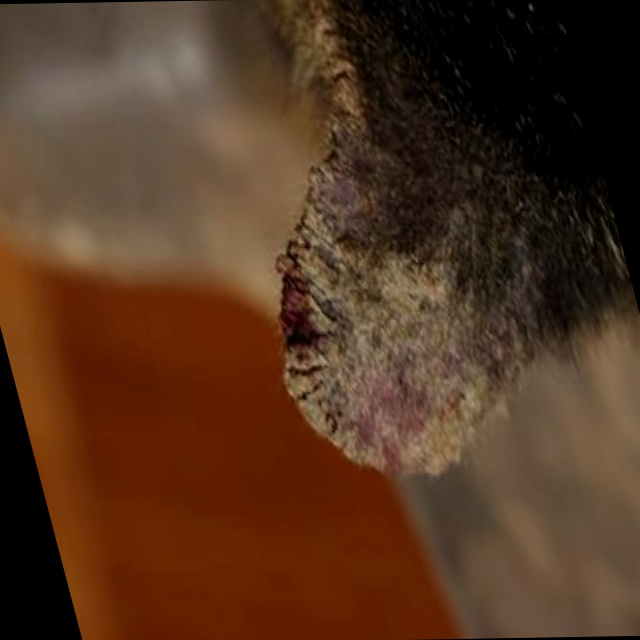ringworm: (257, 216, 527, 460)
